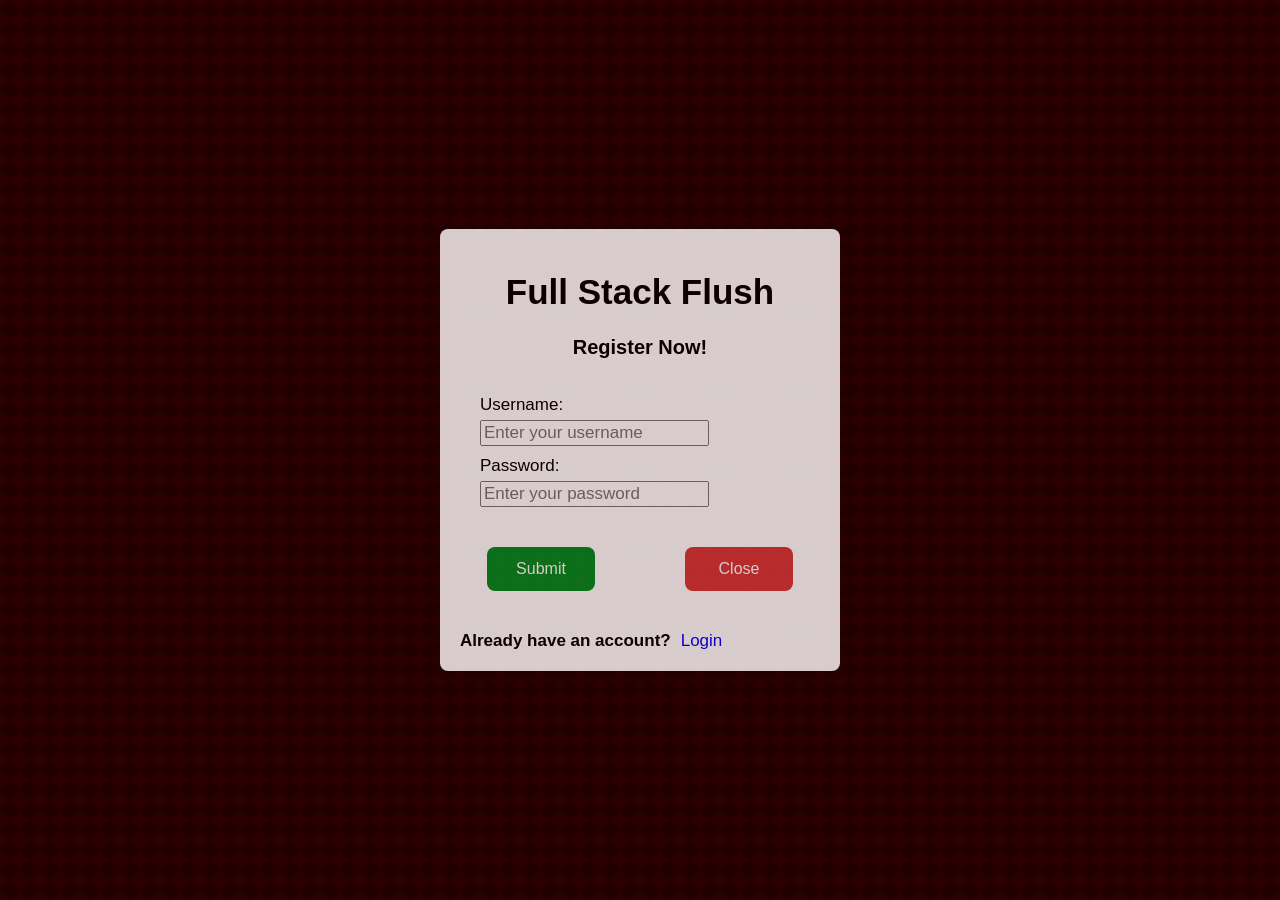
Test: Signup Component › handles successful signup
Type "testuser" into the field with placeholder "Enter your username" at (594, 433), box [480,420,709,446]
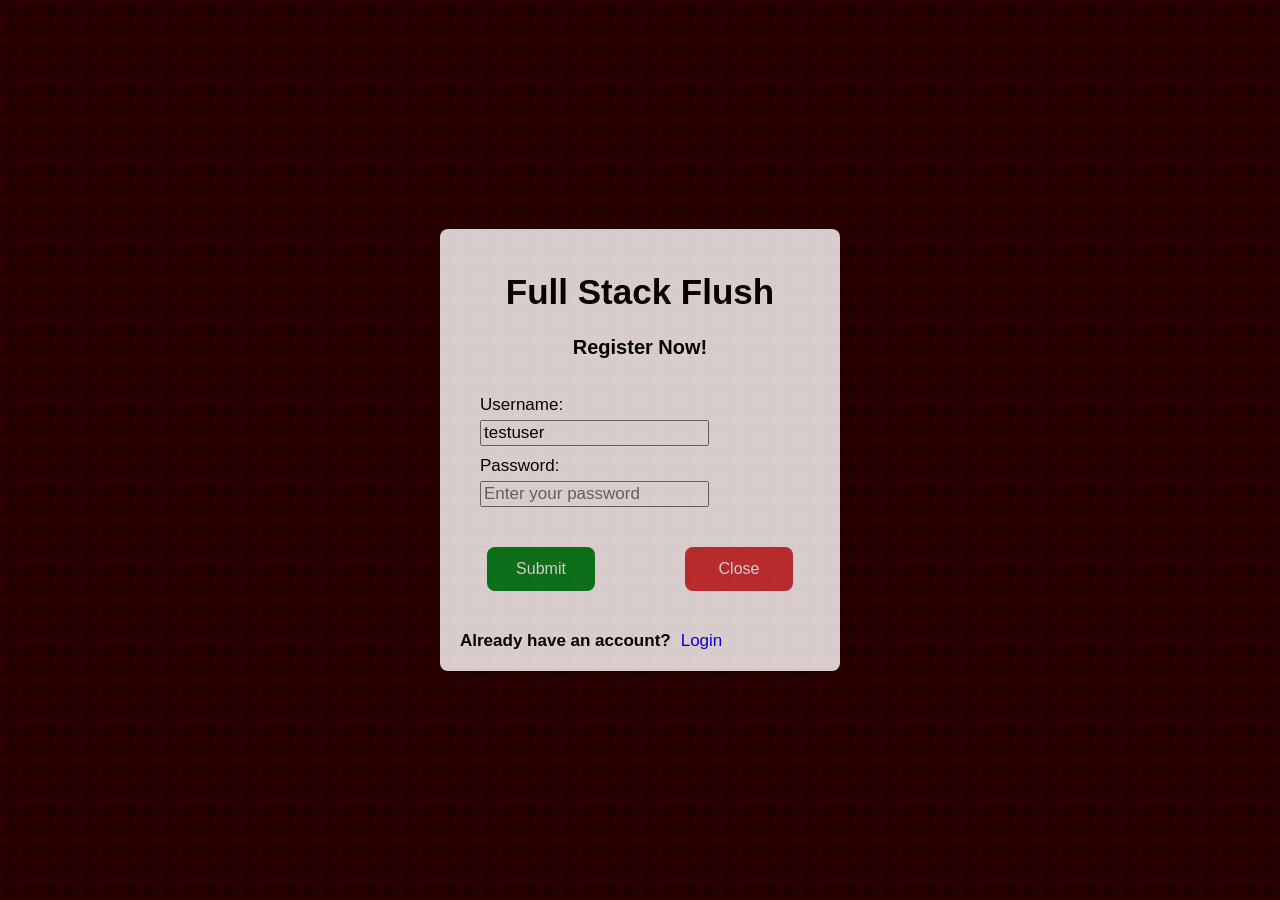
Type "testpassword" into the password field with placeholder "Enter your password" at (594, 494), box [480,481,709,507]
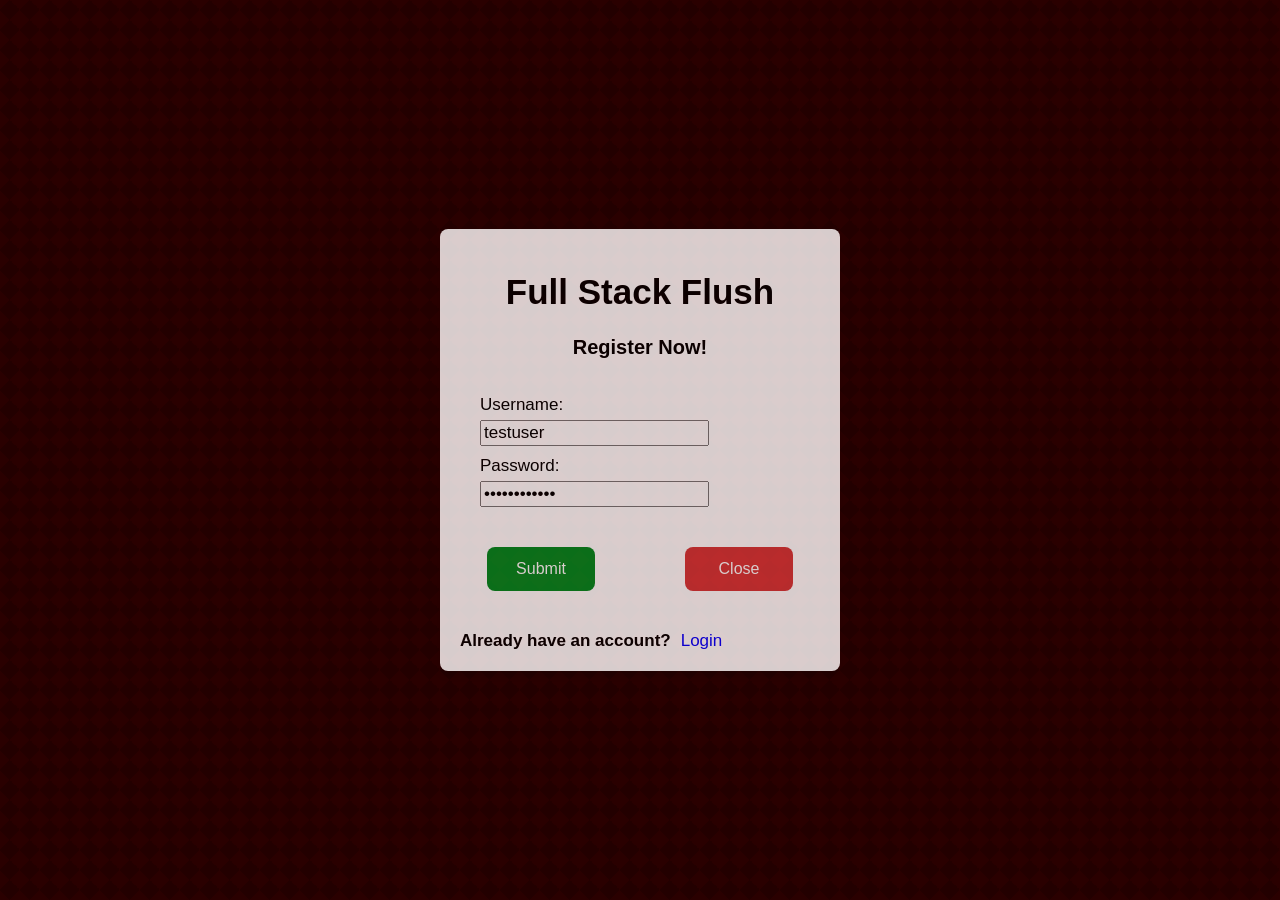
Click the button "Submit" at (541, 569), box [487,547,595,591]
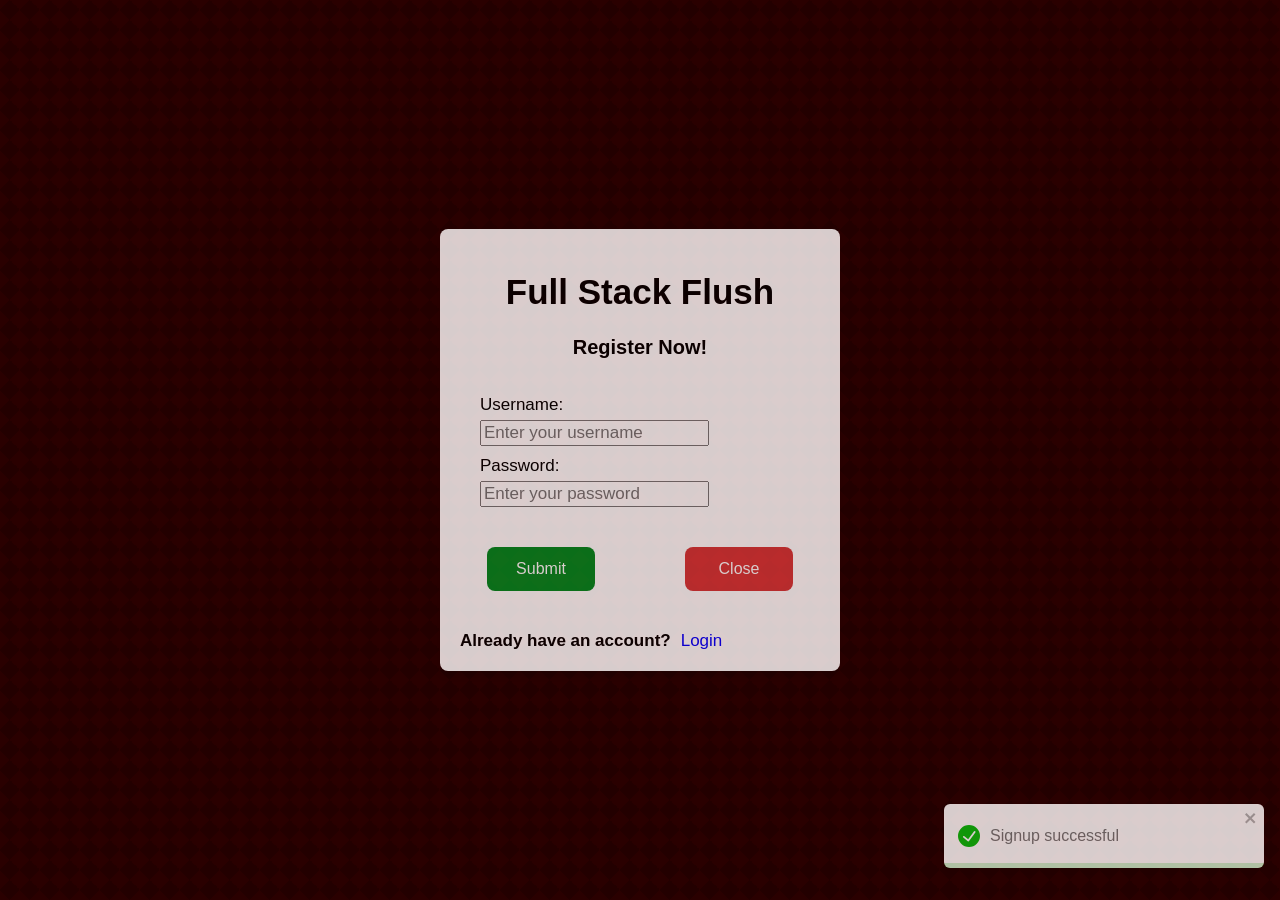
Expected: the text "Signup successful" is shown, [944,804,1264,868]
